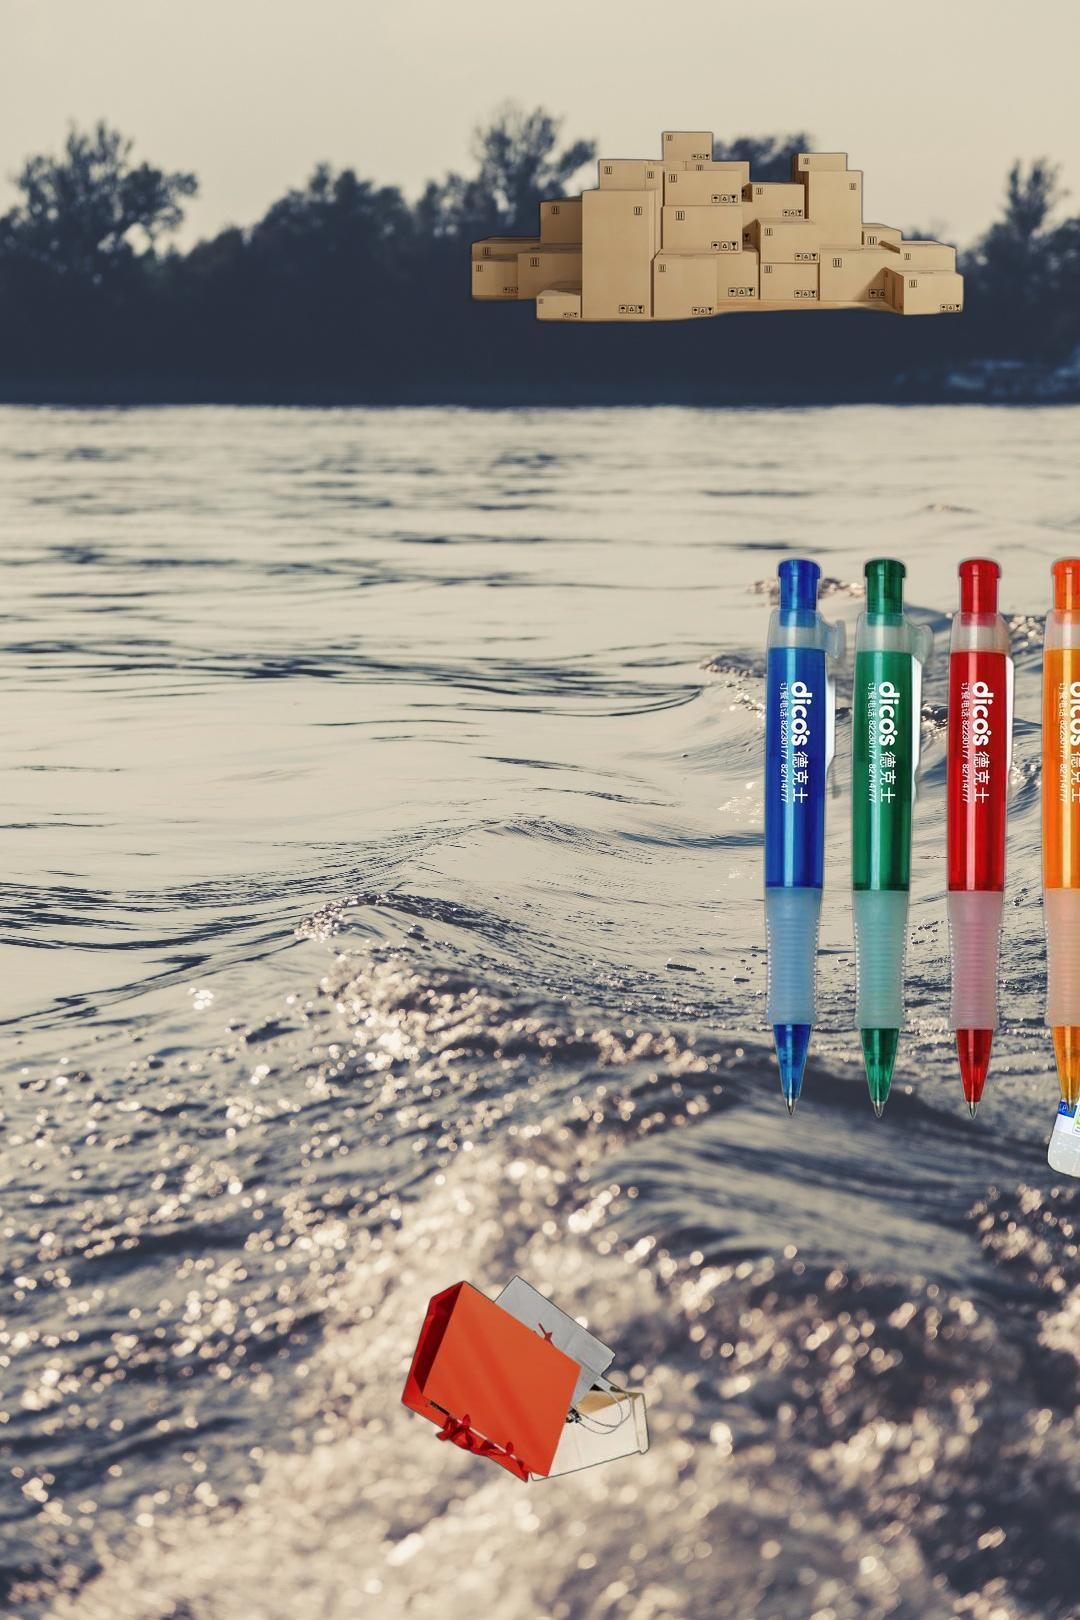paper-bag: (399, 1273, 653, 1486)
penholder: (759, 553, 1080, 1126)
plastic-bottles: (1041, 890, 1080, 1199)
trashbox-cardboard: (464, 128, 969, 325)
